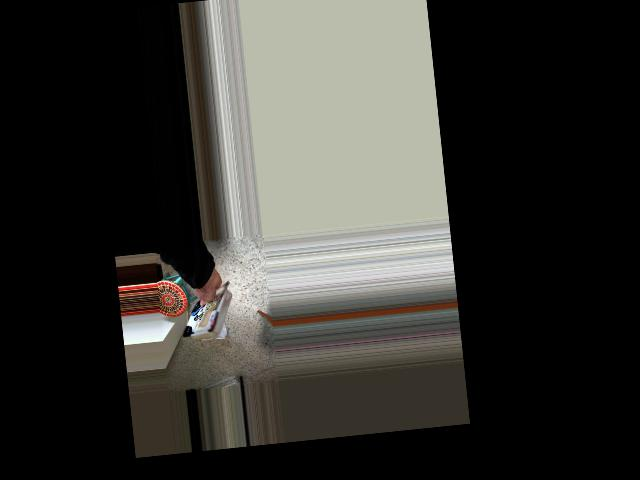cheese: (167, 267, 242, 344)
